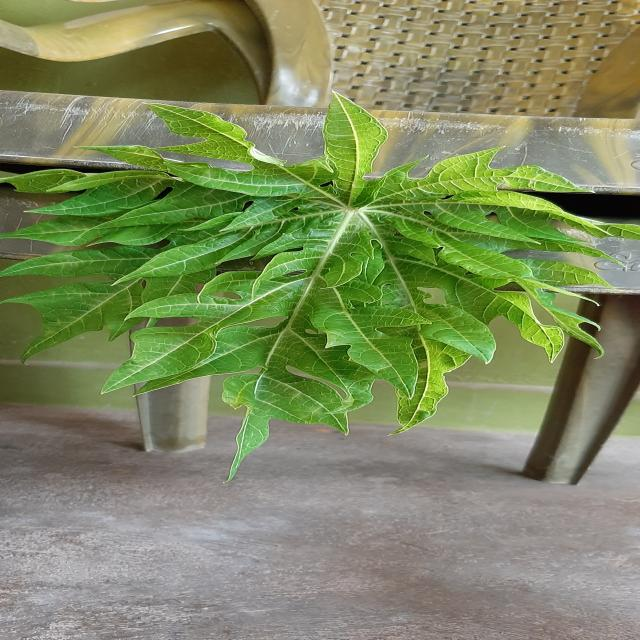papaya: (0, 95, 599, 459)
